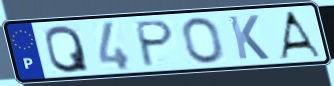4: (97, 19, 133, 72)
A: (276, 9, 323, 60)
K: (226, 14, 272, 61)
O: (180, 16, 226, 65)
P: (134, 19, 177, 69)
Q: (43, 23, 92, 75)
